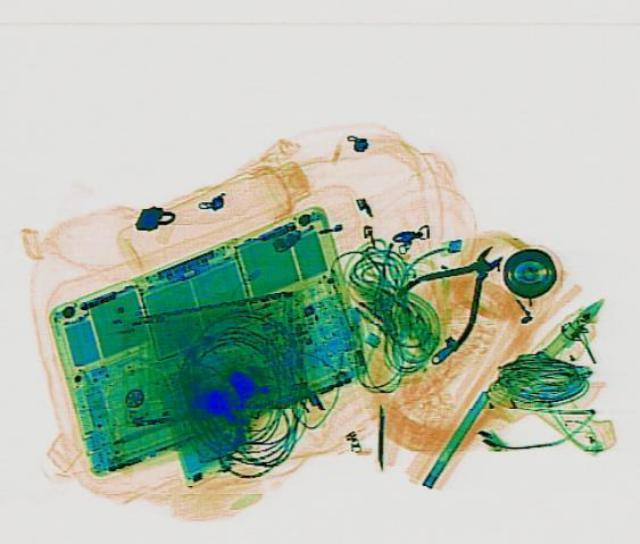Pliers: (378, 226, 534, 352)
